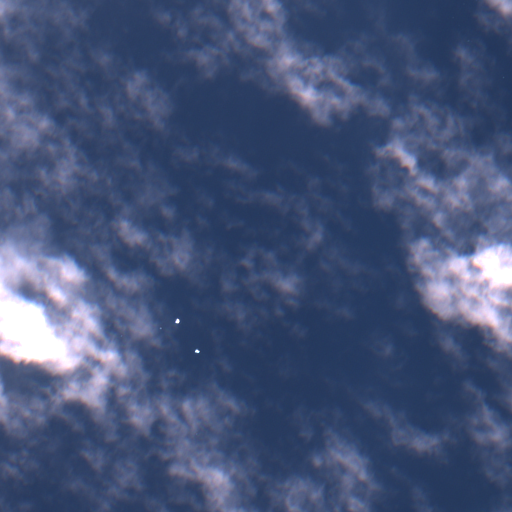Iceberg: (175, 318, 179, 323), (195, 348, 199, 352), (160, 327, 161, 328)
